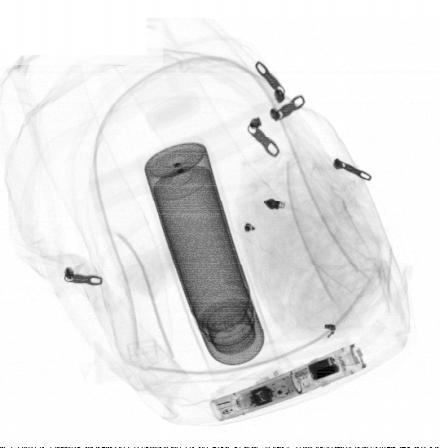Baton: (208, 340, 369, 423)
